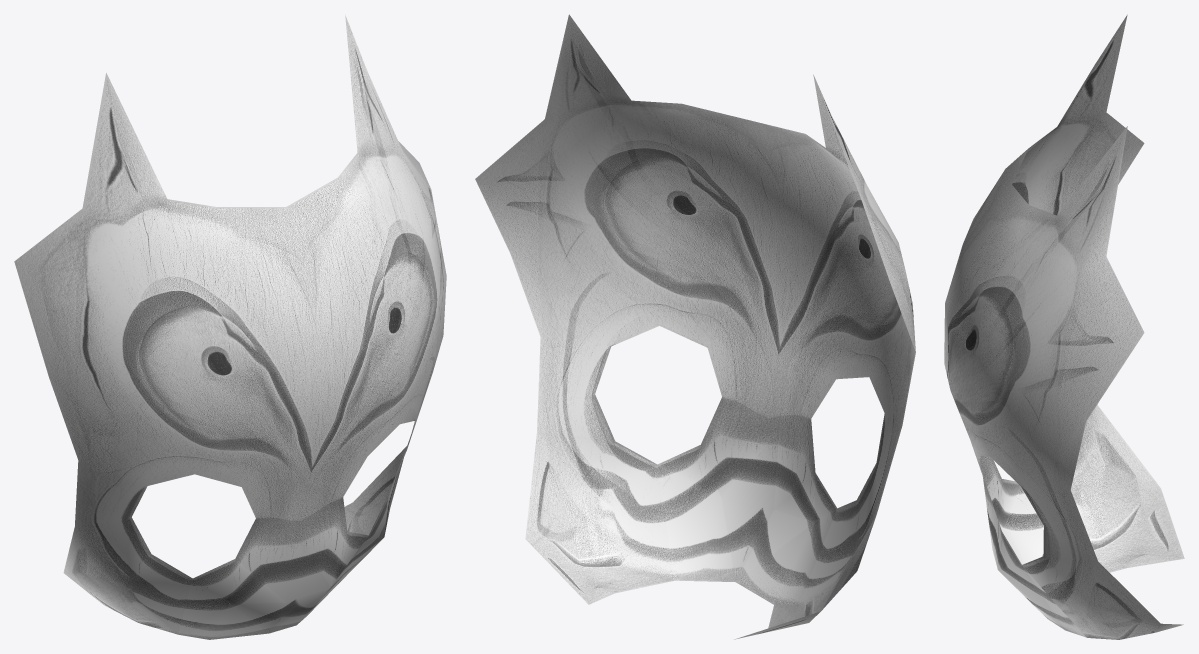
Rendered from warMask.glb.
The picture shows the model from 3 angles, left to right: view 1: azimuth 30°, elevation 25°; view 2: azimuth 150°, elevation 25°; view 3: azimuth 270°, elevation 25°; orthographic projection. The views are drawn at different scales.
Parts seen in each view (by area): view 1: WarMask.002; view 2: WarMask.002; view 3: WarMask.002.
Boxes of the visible parts, box(x1,y1,x2,y2) form: WarMask.002: box(14, 14, 446, 639); WarMask.002: box(475, 14, 915, 639); WarMask.002: box(944, 14, 1184, 639).
Bounding box in the file's own units: 8.2 × 10.85 × 4.4.
Materials: 1 (1 with a texture image).
